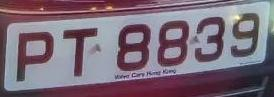3: (187, 10, 230, 67)
8: (111, 19, 156, 75), (152, 14, 195, 70)
9: (226, 10, 263, 61)
P: (5, 26, 60, 88)
T: (56, 24, 98, 85)
